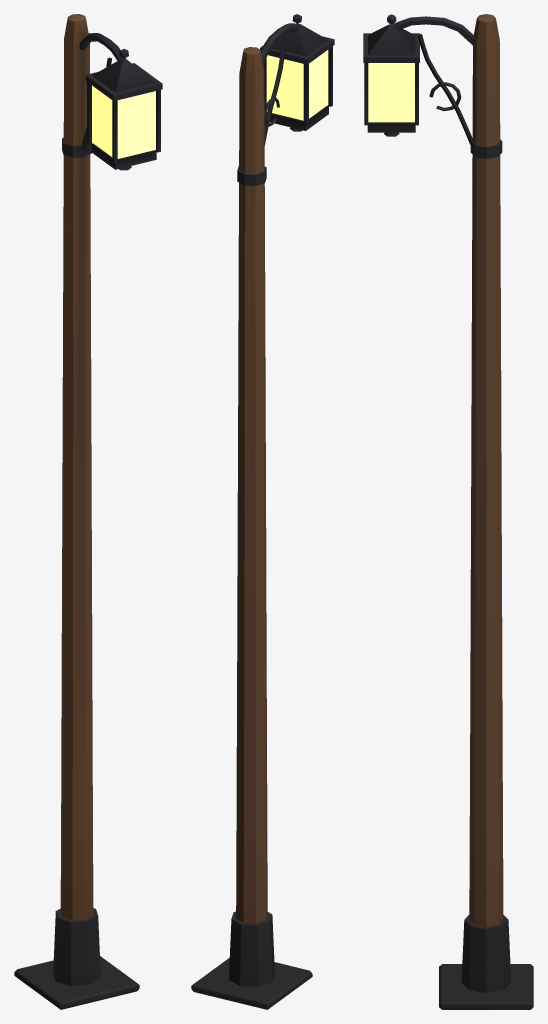
Rendered from lamp.glb.
The picture shows the model from 3 angles, left to right: view 1: azimuth 30°, elevation 25°; view 2: azimuth 150°, elevation 25°; view 3: azimuth 270°, elevation 25°; orthographic projection. The views are drawn at different scales.
Visible parts, largest first — view 1: pole, glass, foot, plate, roof, cap_ring, lantern_base, arm, band, post_0_1; view 2: pole, glass, foot, plate, roof, lantern_base, cap_ring, brace, arm, band, post_0_0; view 3: pole, foot, plate, glass, roof, arm, cap_ring, brace, lantern_base, band.
Boxes of the visible parts, left/top/right/bottom form: pole: left=60, top=14, right=93, bottom=920; glass: left=92, top=85, right=155, bottom=158; foot: left=53, top=908, right=100, bottom=985; plate: left=14, top=956, right=139, bottom=1009; roof: left=92, top=58, right=155, bottom=92; cap_ring: left=85, top=63, right=162, bottom=100; lantern_base: left=91, top=143, right=156, bottom=169; arm: left=79, top=33, right=126, bottom=60; band: left=62, top=137, right=91, bottom=157; post_0_1: left=112, top=100, right=117, bottom=162; pole: left=236, top=47, right=267, bottom=923; glass: left=266, top=50, right=328, bottom=120; foot: left=229, top=911, right=274, bottom=986; plate: left=191, top=958, right=312, bottom=1009; roof: left=272, top=23, right=327, bottom=56; lantern_base: left=267, top=105, right=328, bottom=130; cap_ring: left=260, top=36, right=334, bottom=64; brace: left=264, top=43, right=285, bottom=145; arm: left=260, top=23, right=299, bottom=64; band: left=237, top=166, right=266, bottom=185; post_0_0: left=303, top=64, right=308, bottom=124; pole: left=469, top=14, right=503, bottom=926; foot: left=461, top=915, right=511, bottom=993; plate: left=439, top=964, right=533, bottom=1009; glass: left=368, top=63, right=414, bottom=122; roof: left=368, top=24, right=415, bottom=55; arm: left=391, top=16, right=474, bottom=45; cap_ring: left=363, top=33, right=419, bottom=62; brace: left=418, top=34, right=472, bottom=145; lantern_base: left=367, top=122, right=415, bottom=132; band: left=470, top=139, right=502, bottom=159.
Size of the model in its own units: 0.6 by 6.82 by 1.08.
